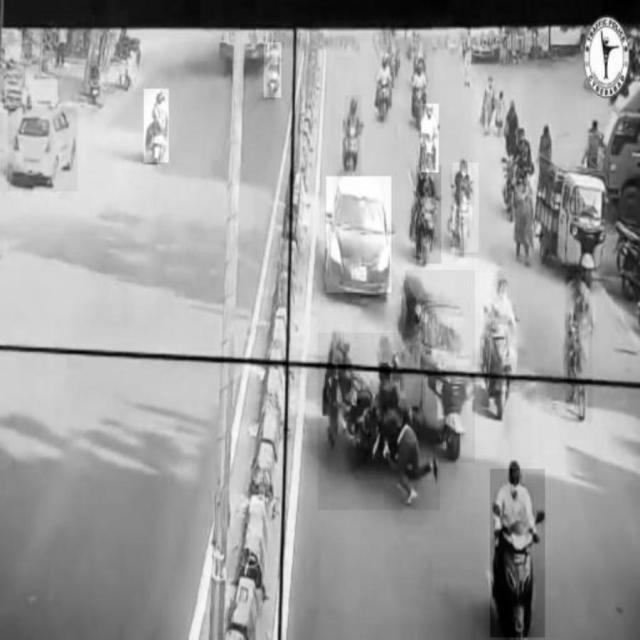accident: (318, 333, 440, 510)
vehicle: (405, 271, 476, 463), (536, 149, 603, 289), (490, 469, 545, 637), (326, 177, 390, 293), (7, 106, 78, 190), (481, 272, 518, 416), (565, 271, 593, 423), (417, 165, 442, 263), (453, 162, 479, 253), (144, 90, 169, 163), (346, 95, 362, 172), (422, 104, 439, 172), (264, 42, 281, 97)
